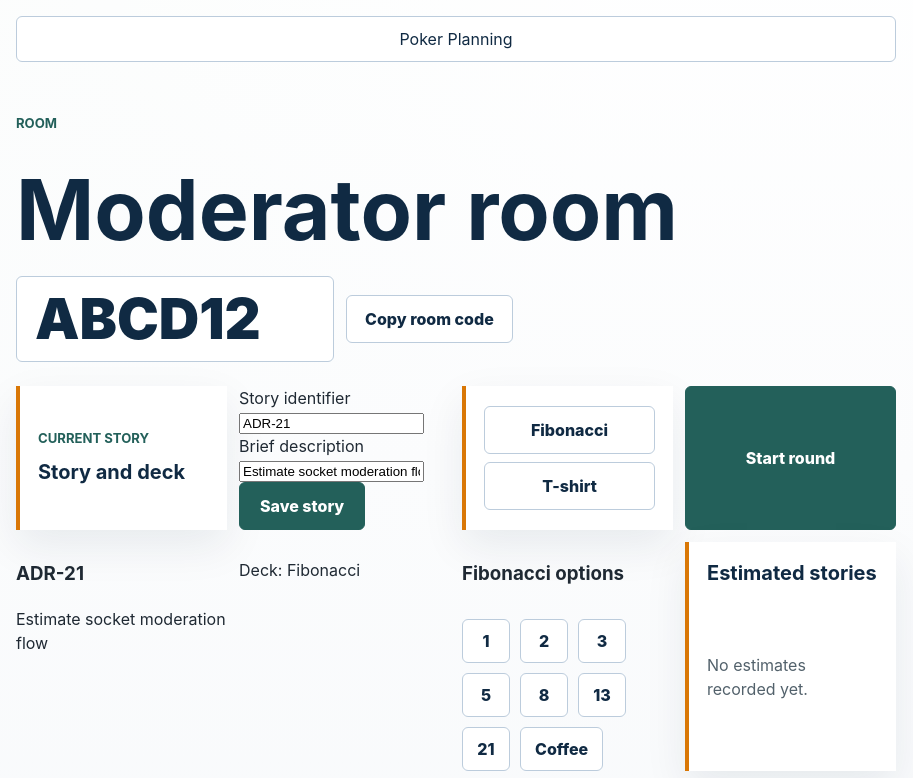
Scenario: ModeratorSessionView › shows readable start-round errors for server failures
Click the button "Start round" at {"x": 790, "y": 458}, box x1=685 y1=386 x2=896 y2=530
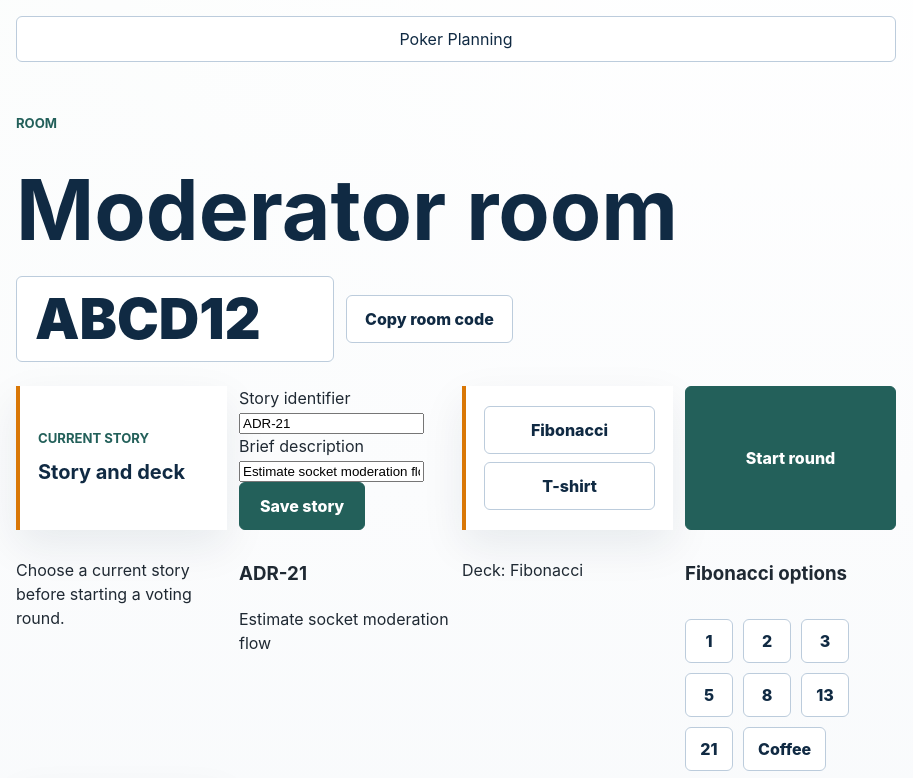
Check: the message reads "Choose a current story before starting a voting round.", box x1=16 y1=560 x2=192 y2=628
